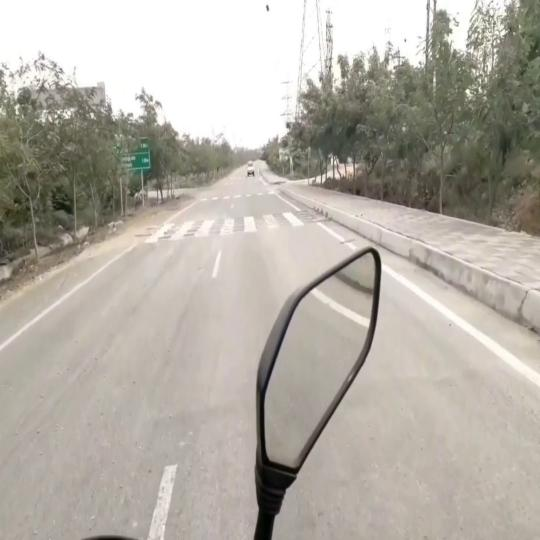Speed Bump: (134, 210, 332, 238)
